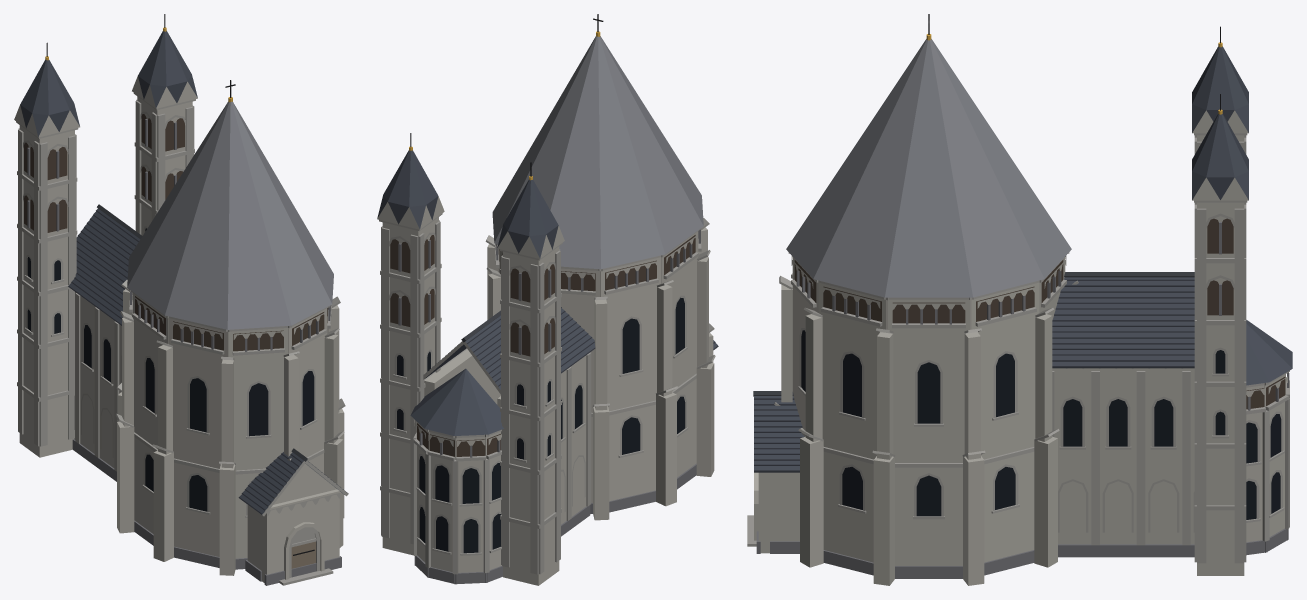
File: koeln_st_gereon.glb
The picture shows the model from 3 angles, left to right: view 1: azimuth 30°, elevation 25°; view 2: azimuth 150°, elevation 25°; view 3: azimuth 270°, elevation 25°; orthographic projection. The views are drawn at different scales.
Visible parts, largest first — view 1: Kirche; view 2: Kirche; view 3: Kirche.
Boxes of the visible parts, bbox=[...] form: Kirche: bbox=[14, 14, 348, 585]; Kirche: bbox=[377, 14, 718, 585]; Kirche: bbox=[747, 14, 1292, 585].
Size of the model in its own units: 13.58 by 30.2 by 28.81.
